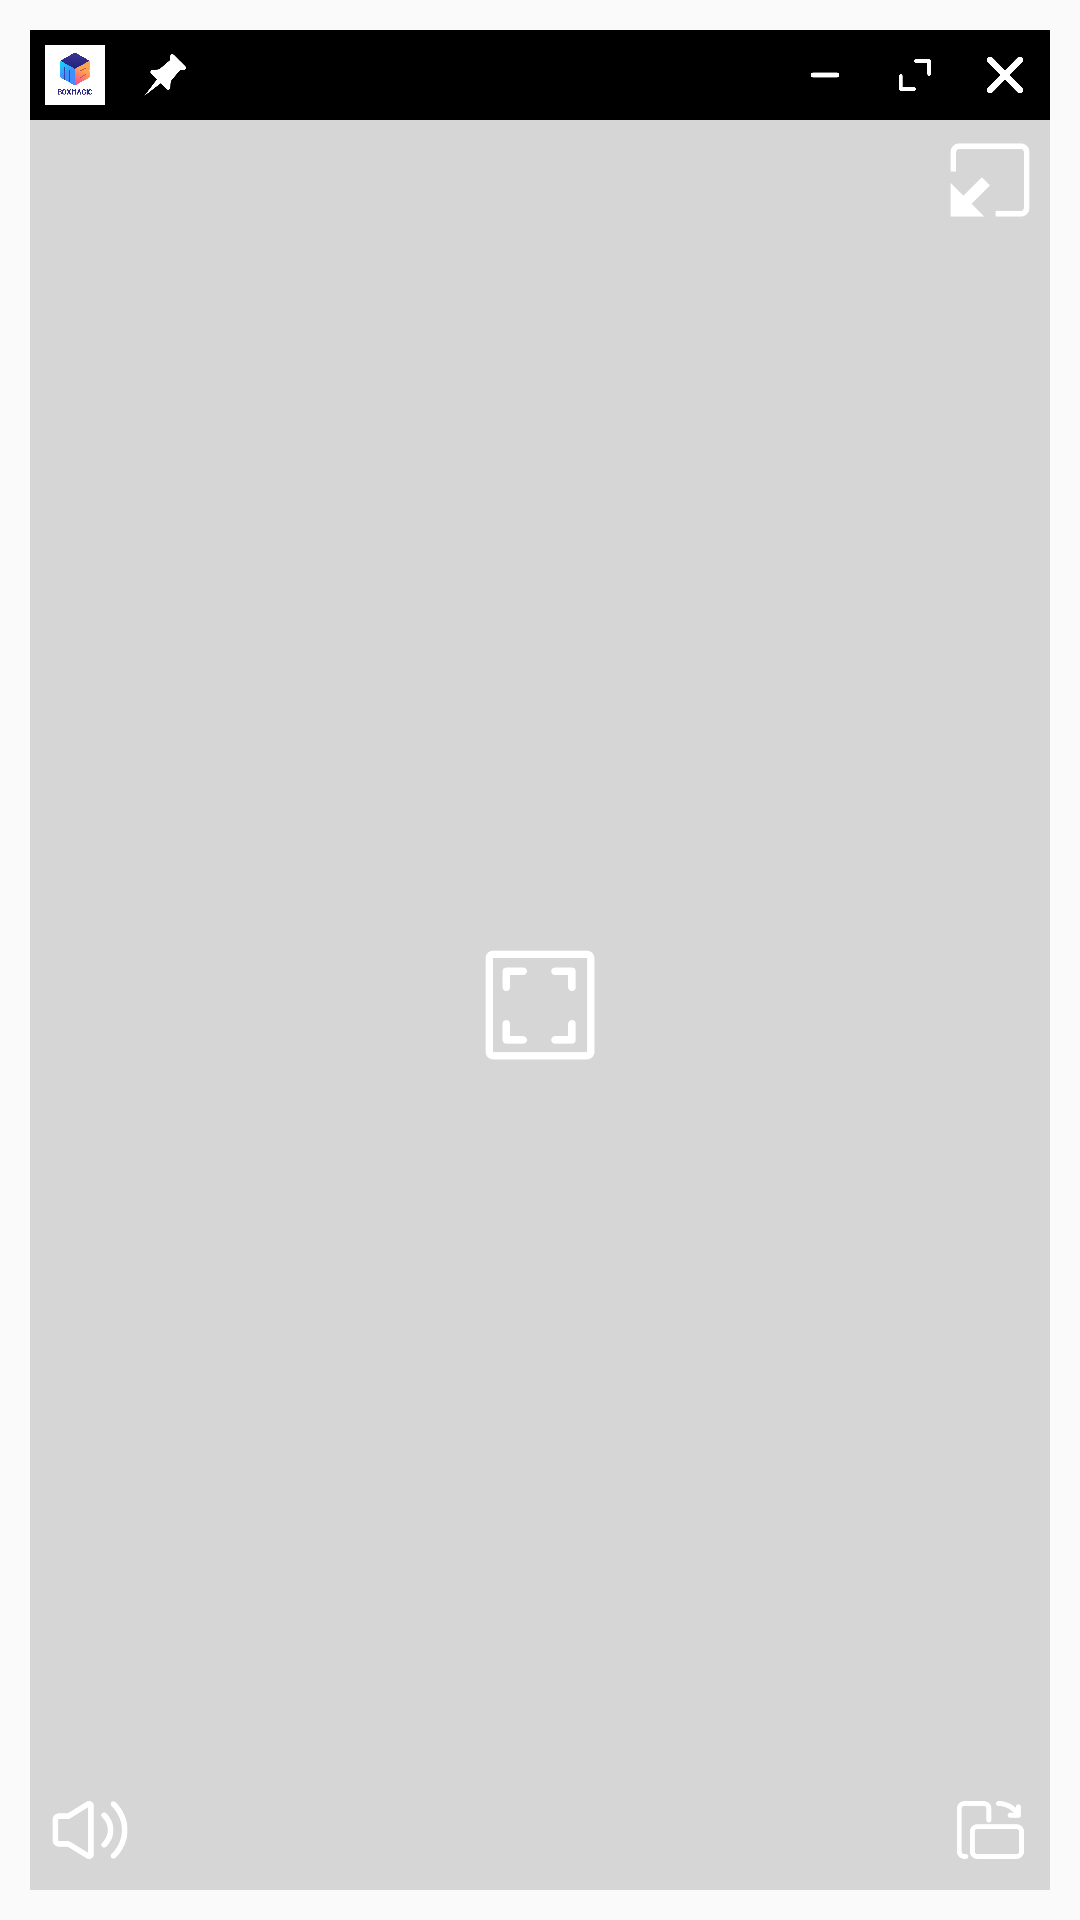

Named icons in this screenshot (1080 x 1920) and their centers, point (x, y):
close: point (1005, 75)
fix: point (165, 75)
float: point (990, 180)
float full screen: point (540, 1005)
float sound: point (90, 1830)
float switch: point (990, 1830)
max: point (915, 75)
